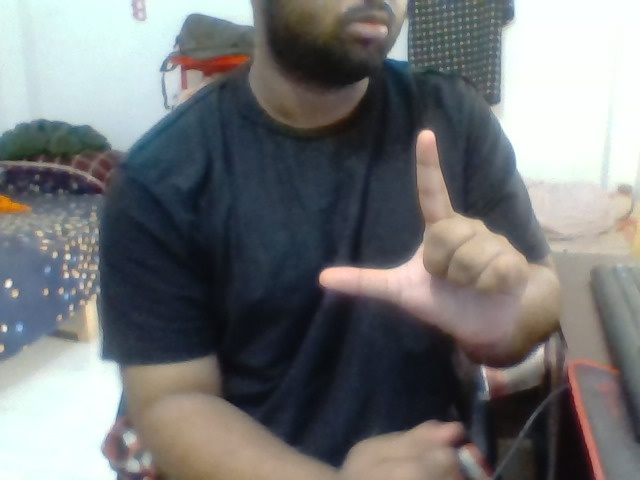L: (295, 121, 534, 363)
